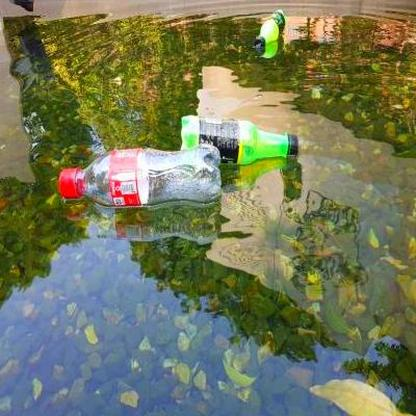plastic bottle: (59, 147, 221, 206), (180, 114, 299, 165), (256, 7, 284, 43)
